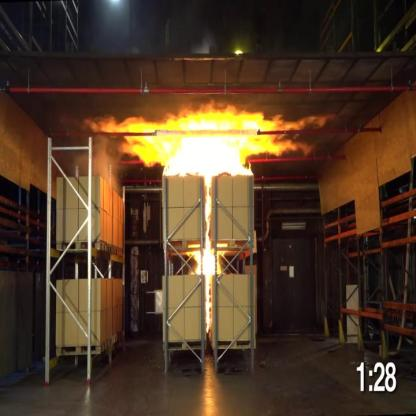fire: (87, 104, 334, 172), (184, 181, 230, 338)
